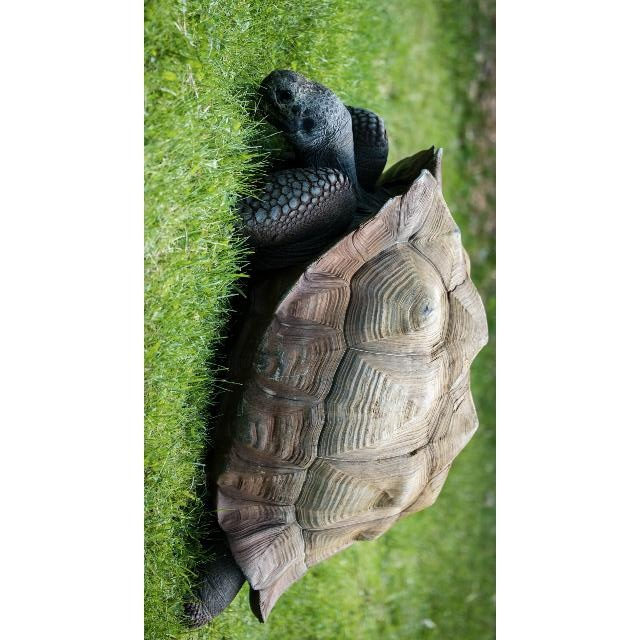turtle: (178, 70, 490, 631)
